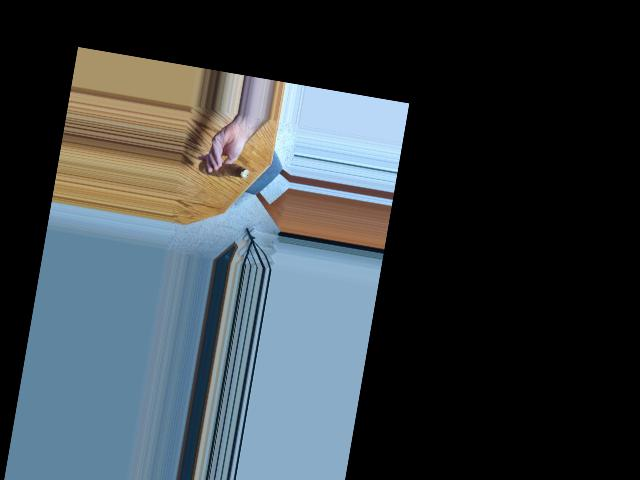sweet_potato: (200, 160, 244, 185)
